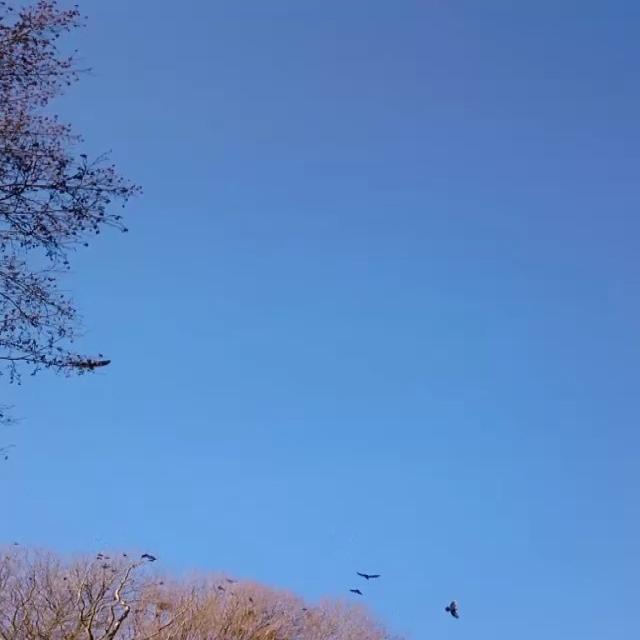bird: (440, 595, 463, 623), (357, 568, 379, 588), (348, 585, 370, 599)
